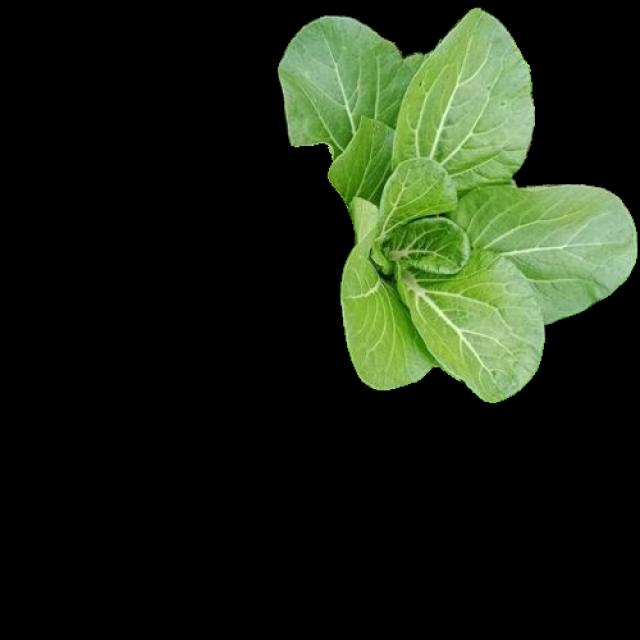healthy: (279, 5, 636, 394)
mature: (282, 8, 638, 396)
